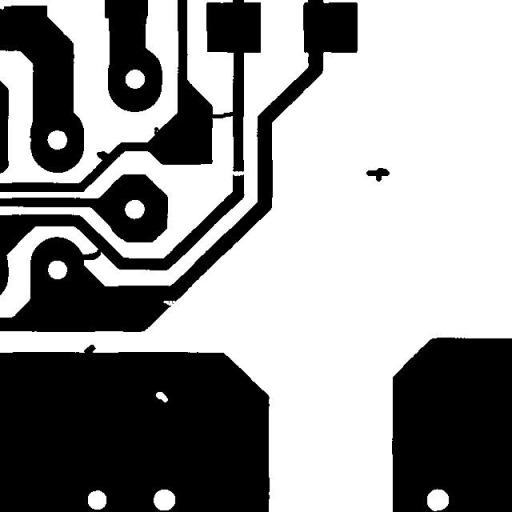copper: (358, 160, 397, 189)
mousebite: (155, 293, 183, 313)
open: (223, 163, 252, 183)
pin-hole: (148, 384, 175, 410)
short: (69, 242, 108, 267), (202, 103, 244, 126)
spur: (76, 337, 103, 363), (89, 143, 117, 167), (146, 119, 170, 145)
